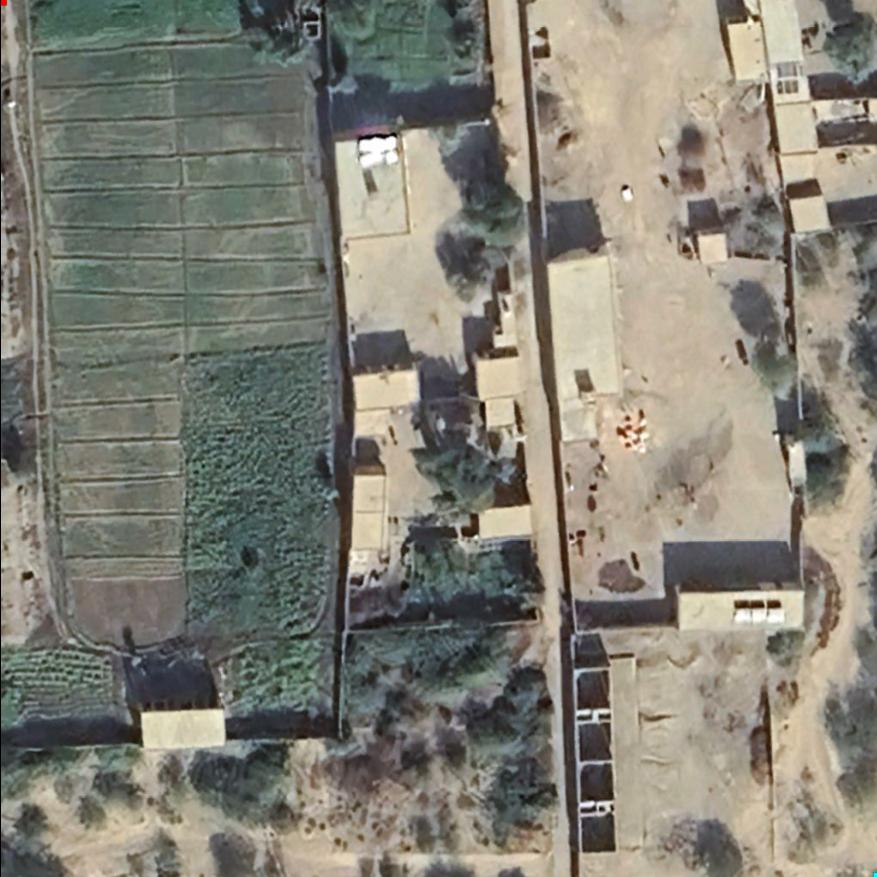Solarpanel: (352, 130, 404, 173), (732, 602, 788, 627)
